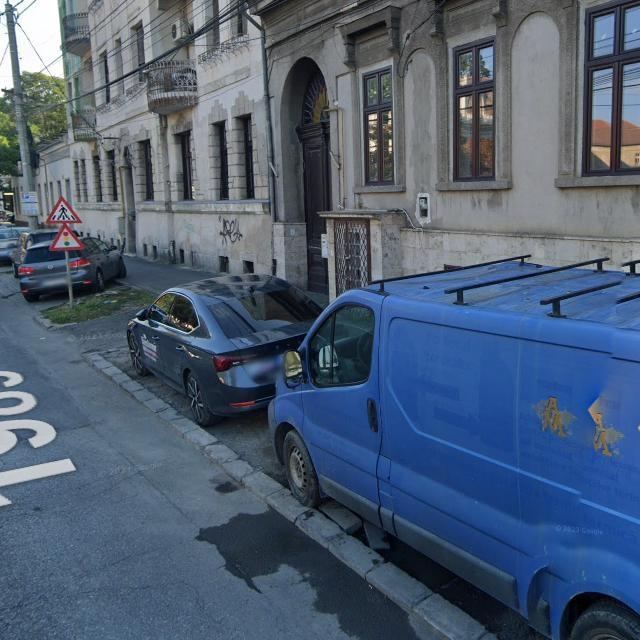warn_crosswalk: (46, 196, 82, 224)
